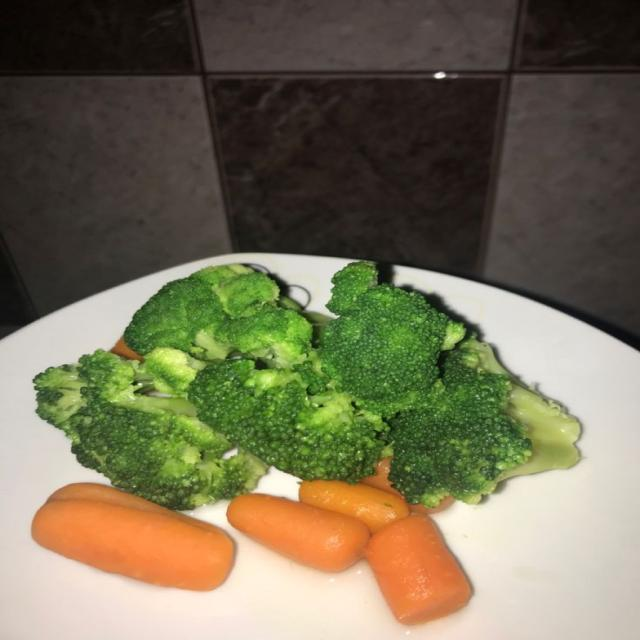broccoli: (35, 261, 579, 508), (34, 350, 266, 510), (390, 337, 579, 506), (189, 359, 387, 482), (320, 261, 465, 416), (124, 265, 313, 365)
carrot: (31, 483, 234, 590), (365, 515, 470, 624), (227, 493, 369, 571), (298, 481, 409, 532)
